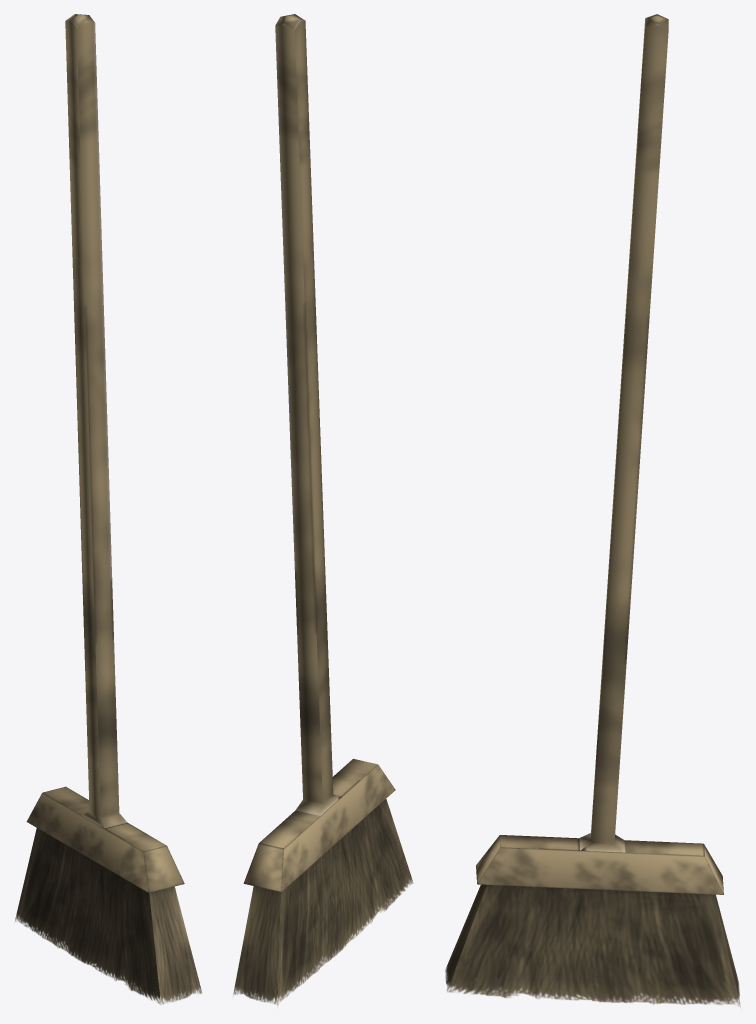
The model's file is escoba.gltf.
3 views of the same model, side by side, from view 1: azimuth 30°, elevation 25°; view 2: azimuth 150°, elevation 25°; view 3: azimuth 270°, elevation 25° (orthographic). The views are drawn at different scales.
Parts seen in each view (by area): view 1: Mesh_0.010; view 2: Mesh_0.010; view 3: Mesh_0.010.
Part boxes in pixels (box(x1,y1,x2,y2)): Mesh_0.010: box(15, 14, 201, 1005); Mesh_0.010: box(233, 14, 413, 1005); Mesh_0.010: box(445, 14, 740, 1006).
Size of the model in its own units: 8.88 by 158 by 43.43.
1 material, 1 textured.
